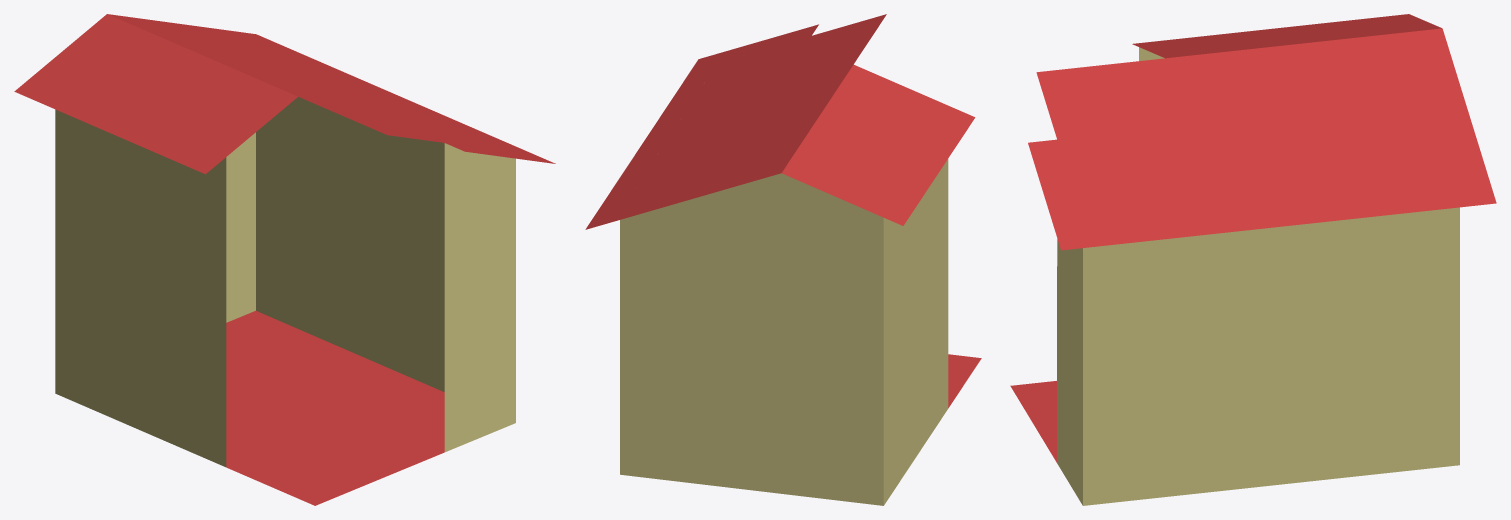
3 renders of one model, left to right at view 1: azimuth 30°, elevation 25°; view 2: azimuth 150°, elevation 25°; view 3: azimuth 270°, elevation 25°, orthographic. The views are drawn at different scales.
Bounding box in the file's own units: 11.25 × 12.05 × 9.75.
